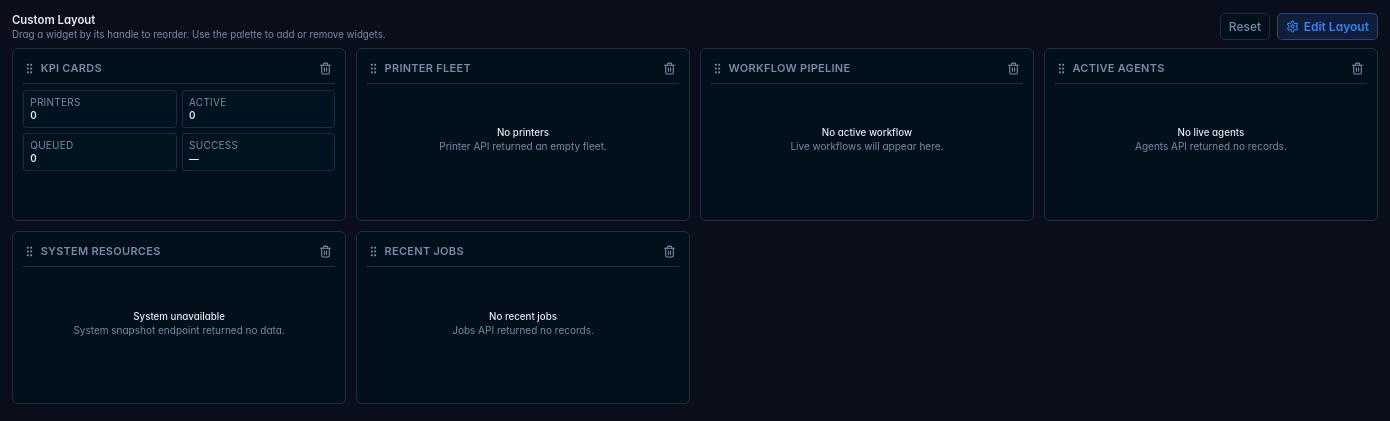
DashboardCustom › removing a widget persists the new layout to localStorage
This screenshot has width=1390, height=421.
Click the button with test id "dashboard-custom-remove-jobs": (670, 251) [660,242,679,261]
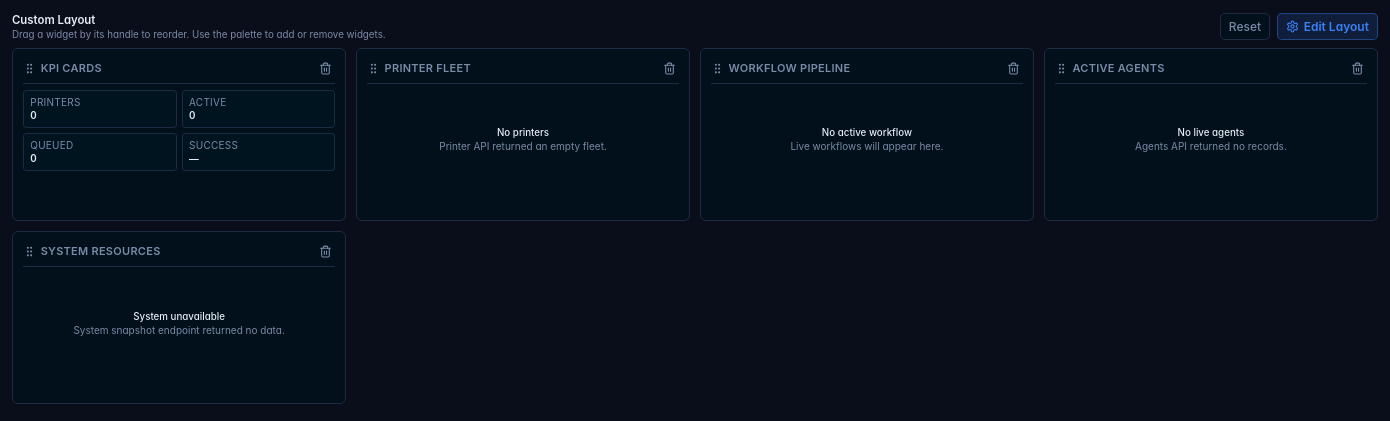
Expected: the element with test id "dashboard-custom-widget-jobs" is gone
